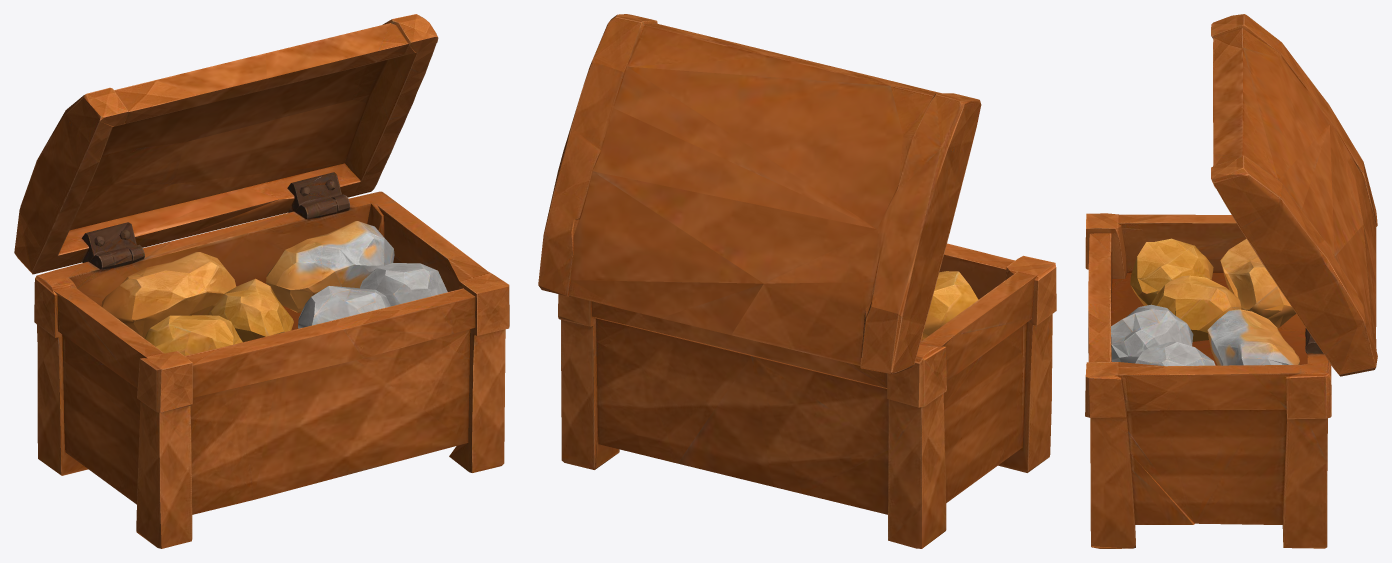
The model's file is gold-silver-chest.glb.
3 views of the same model, side by side, from view 1: azimuth 30°, elevation 25°; view 2: azimuth 150°, elevation 25°; view 3: azimuth 270°, elevation 25° (orthographic). The views are drawn at different scales.
Size of the model in its own units: 1.77 by 1.9 by 1.33.
Materials: 1 (1 with a texture image).
